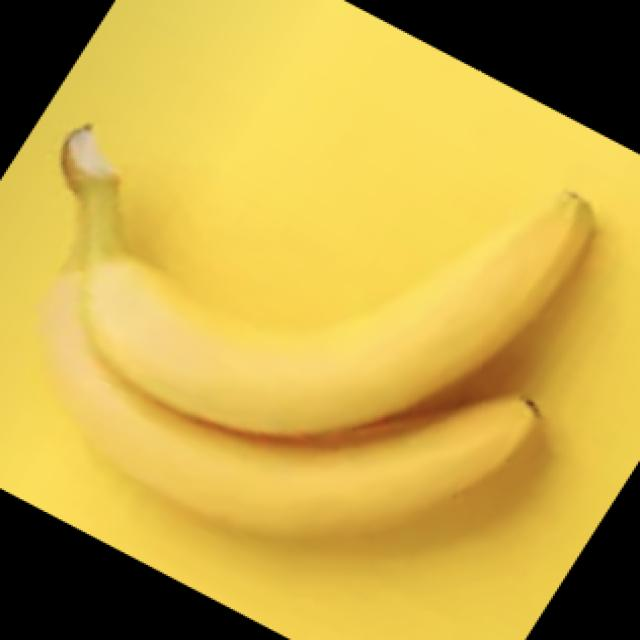god quality banana: (43, 132, 591, 535)
